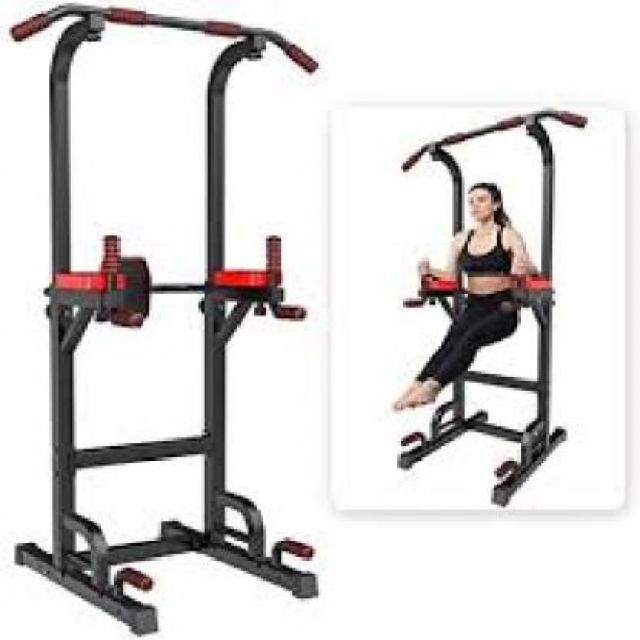chinning dipping: (9, 1, 322, 632)
